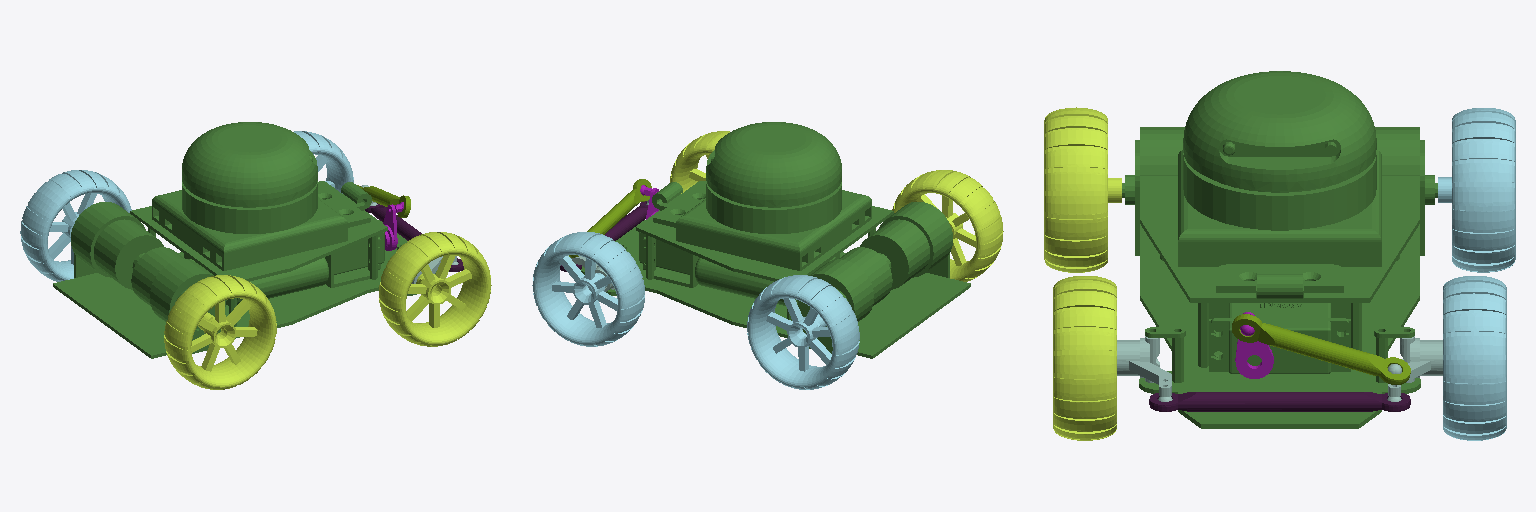
URDF robot description (test.SLDASM):
<?xml version="1.0" encoding="utf-8"?>
<!-- This URDF was automatically created by SolidWorks to URDF Exporter! Originally created by [author] ([email redacted]) 
     Commit Version: 1.5.1-0-g916b5db  Build Version: 1.5.7152.31018
     For more information, please see http://wiki.ros.org/sw_urdf_exporter -->
<robot
  name="test.SLDASM">
  <link
    name="base_link">
    <inertial>
      <origin
        xyz="-0.00159689886422772 -9.15245044360119E-06 0.0359198445178648"
        rpy="0 0 0" />
      <mass
        value="0.604172734262597" />
      <inertia
        ixx="0.000250495200702005"
        ixy="9.06360029792617E-08"
        ixz="9.87057318330371E-07"
        iyy="0.000349222290359103"
        iyz="-6.76297915922926E-10"
        izz="0.000528284512931136" />
    </inertial>
    <visual>
      <origin
        xyz="0 0 0"
        rpy="0 0 0" />
      <geometry>
        <mesh
          filename="package://test.SLDASM/meshes/base_link.STL" />
      </geometry>
      <material
        name="">
        <color
          rgba="0.337254901960784 0.549019607843137 0.282352941176471 1" />
      </material>
    </visual>
    <collision>
      <origin
        xyz="0 0 0"
        rpy="0 0 0" />
      <geometry>
        <mesh
          filename="package://test.SLDASM/meshes/base_link.STL" />
      </geometry>
    </collision>
  </link>
  <link
    name="lb_wheel">
    <inertial>
      <origin
        xyz="1.36724481666559E-05 -0.0052157204458189 -1.71707273817247E-05"
        rpy="0 0 0" />
      <mass
        value="0.0370961811704838" />
      <inertia
        ixx="1.43447471719054E-05"
        ixy="-1.11570042486E-09"
        ixz="1.07558180718446E-09"
        iyy="2.60572333015591E-05"
        iyz="1.42912660006039E-09"
        izz="1.43538389693049E-05" />
    </inertial>
    <visual>
      <origin
        xyz="0 0 0"
        rpy="0 0 0" />
      <geometry>
        <mesh
          filename="package://test.SLDASM/meshes/lb_wheel.STL" />
      </geometry>
      <material
        name="">
        <color
          rgba="0.647058823529412 0.858823529411765 0.905882352941176 1" />
      </material>
    </visual>
    <collision>
      <origin
        xyz="0 0 0"
        rpy="0 0 0" />
      <geometry>
        <mesh
          filename="package://test.SLDASM/meshes/lb_wheel.STL" />
      </geometry>
    </collision>
  </link>
  <joint
    name="lb_wheel"
    type="continuous">
    <origin
      xyz="-0.0681918900275088 0.085 0.0195"
      rpy="0 0 0" />
    <parent
      link="base_link" />
    <child
      link="lb_wheel" />
    <axis
      xyz="0 1 0" />
    <limit
      lower="-120"
      upper="120"
      effort="50"
      velocity="50" />
    <safety_controller
      soft_upper="100"
      soft_lower="40"
      k_velocity="60" />
  </joint>
  <link
    name="rb_wheel">
    <inertial>
      <origin
        xyz="1.41961107019833E-05 0.00521574554895821 -1.71876179285227E-05"
        rpy="0 0 0" />
      <mass
        value="0.0370952962895476" />
      <inertia
        ixx="1.43536074160664E-05"
        ixy="1.16660028548748E-09"
        ixz="-6.58757327486581E-10"
        iyy="2.60568095395233E-05"
        iyz="-1.40471818464943E-09"
        izz="1.43443707275583E-05" />
    </inertial>
    <visual>
      <origin
        xyz="0 0 0"
        rpy="0 0 0" />
      <geometry>
        <mesh
          filename="package://test.SLDASM/meshes/rb_wheel.STL" />
      </geometry>
      <material
        name="">
        <color
          rgba="0.8 0.917647058823529 0.337254901960784 1" />
      </material>
    </visual>
    <collision>
      <origin
        xyz="0 0 0"
        rpy="0 0 0" />
      <geometry>
        <mesh
          filename="package://test.SLDASM/meshes/rb_wheel.STL" />
      </geometry>
    </collision>
  </link>
  <joint
    name="rb_wheel"
    type="continuous">
    <origin
      xyz="-0.0681918900275088 -0.085 0.0195"
      rpy="0 0 0" />
    <parent
      link="base_link" />
    <child
      link="rb_wheel" />
    <axis
      xyz="0 -1 0" />
    <limit
      lower="-120"
      upper="120"
      effort="50"
      velocity="50" />
    <safety_controller
      soft_upper="100"
      soft_lower="40"
      k_velocity="60" />
  </joint>
  <link
    name="servo">
    <inertial>
      <origin
        xyz="-0.000670564663515699 -0.000838904673663076 0.00577004498133581"
        rpy="0 0 0" />
      <mass
        value="0.00102812398052869" />
      <inertia
        ixx="5.06965999363832E-08"
        ixy="3.59582150864825E-10"
        ixz="-2.47323116704478E-09"
        iyy="4.13995778738809E-08"
        iyz="3.89727361496621E-09"
        izz="1.51604797111521E-08" />
    </inertial>
    <visual>
      <origin
        xyz="0 0 0"
        rpy="0 0 0" />
      <geometry>
        <mesh
          filename="package://test.SLDASM/meshes/servo.STL" />
      </geometry>
      <material
        name="">
        <color
          rgba="0.67843137254902 0.176470588235294 0.725490196078431 1" />
      </material>
    </visual>
    <collision>
      <origin
        xyz="0 0 0"
        rpy="0 0 0" />
      <geometry>
        <mesh
          filename="package://test.SLDASM/meshes/servo.STL" />
      </geometry>
    </collision>
  </link>
  <joint
    name="servo"
    type="revolute">
    <origin
      xyz="0.0818081099724683 -0.00999999999994558 0.0149999999999222"
      rpy="0 0 0" />
    <parent
      link="base_link" />
    <child
      link="servo" />
    <axis
      xyz="1 0 0" />
    <limit
      lower="-90"
      upper="90"
      effort="0"
      velocity="0" />
  </joint>
  <link
    name="turn_l">
    <inertial>
      <origin
        xyz="0.00638642436230782 0.00371324673923158 4.6785291846695E-05"
        rpy="0 0 0" />
      <mass
        value="0.00262306791605391" />
      <inertia
        ixx="1.02648987046787E-07"
        ixy="6.52855074516281E-08"
        ixz="7.03843776497678E-14"
        iyy="2.32734584765491E-07"
        iyz="-7.50458574185946E-14"
        izz="2.55841528338023E-07" />
    </inertial>
    <visual>
      <origin
        xyz="0 0 0"
        rpy="0 0 0" />
      <geometry>
        <mesh
          filename="package://test.SLDASM/meshes/turn_l.STL" />
      </geometry>
      <material
        name="">
        <color
          rgba="0.63921568627451 0.772549019607843 0.741176470588235 1" />
      </material>
    </visual>
    <collision>
      <origin
        xyz="0 0 0"
        rpy="0 0 0" />
      <geometry>
        <mesh
          filename="package://test.SLDASM/meshes/turn_l.STL" />
      </geometry>
    </collision>
  </link>
  <joint
    name="turn_l"
    type="revolute">
    <origin
      xyz="0.0718081279661377 0.0490967647728443 0.012000024229292"
      rpy="0 0 0" />
    <parent
      link="base_link" />
    <child
      link="turn_l" />
    <axis
      xyz="0 0 -1" />
    <limit
      lower="-45"
      upper="45"
      effort="0"
      velocity="0" />
  </joint>
  <link
    name="lf_wheel">
    <inertial>
      <origin
        xyz="-2.20627704051179E-05 -0.00521575578452982 -1.75769779402202E-06"
        rpy="0 0 0" />
      <mass
        value="0.0370948291464789" />
      <inertia
        ixx="1.43494957491049E-05"
        ixy="1.81562503293817E-09"
        ixz="-4.50988533460288E-09"
        iyy="2.60565852527096E-05"
        iyz="1.34532667658033E-10"
        izz="1.4348159194633E-05" />
    </inertial>
    <visual>
      <origin
        xyz="0 0 0"
        rpy="0 0 0" />
      <geometry>
        <mesh
          filename="package://test.SLDASM/meshes/lf_wheel.STL" />
      </geometry>
      <material
        name="">
        <color
          rgba="0.647058823529412 0.858823529411765 0.905882352941176 1" />
      </material>
    </visual>
    <collision>
      <origin
        xyz="0 0 0"
        rpy="0 0 0" />
      <geometry>
        <mesh
          filename="package://test.SLDASM/meshes/lf_wheel.STL" />
      </geometry>
    </collision>
  </link>
  <joint
    name="lf_wheel"
    type="continuous">
    <origin
      xyz="0 0.0324032352274523 0"
      rpy="0 0 0" />
    <parent
      link="turn_l" />
    <child
      link="lf_wheel" />
    <axis
      xyz="0 1 0" />
    <limit
      lower="-120"
      upper="120"
      effort="0"
      velocity="50" />
  </joint>
  <link
    name="link_l">
    <inertial>
      <origin
        xyz="1.24850785265807E-09 -0.0450000001776448 8.57940550682739E-05"
        rpy="0 0 0" />
      <mass
        value="0.00436502834432125" />
      <inertia
        ixx="2.97300554211234E-06"
        ixy="-3.26029444882744E-22"
        ixz="8.63253468807438E-14"
        iyy="3.76664735690838E-08"
        iyz="-1.44260832797335E-22"
        izz="2.9805584866647E-06" />
    </inertial>
    <visual>
      <origin
        xyz="0 0 0"
        rpy="0 0 0" />
      <geometry>
        <mesh
          filename="package://test.SLDASM/meshes/link_l.STL" />
      </geometry>
      <material
        name="">
        <color
          rgba="0.301960784313725 0.145098039215686 0.298039215686275 1" />
      </material>
    </visual>
    <collision>
      <origin
        xyz="0 0 0"
        rpy="0 0 0" />
      <geometry>
        <mesh
          filename="package://test.SLDASM/meshes/link_l.STL" />
      </geometry>
    </collision>
  </link>
  <joint
    name="link_l"
    type="revolute">
    <origin
      xyz="0.0299999803666197 -0.00409676459519989 -0.00508581828436026"
      rpy="0 0 0" />
    <parent
      link="turn_l" />
    <child
      link="link_l" />
    <axis
      xyz="0 0 1" />
    <limit
      lower="0"
      upper="0"
      effort="0"
      velocity="0" />
  </joint>
  <link
    name="link_ll">
    <inertial>
      <origin
        xyz="-0.00400000848967141 -0.0287948824732912 0.00732060637305861"
        rpy="0 0 0" />
      <mass
        value="0.0028569998845175" />
      <inertia
        ixx="9.07189471290435E-07"
        ixy="-1.1486537524523E-07"
        ixz="2.95450825678496E-08"
        iyy="9.62599260163487E-08"
        iyz="2.12683780912267E-07"
        izz="8.68442733177761E-07" />
    </inertial>
    <visual>
      <origin
        xyz="0 0 0"
        rpy="0 0 0" />
      <geometry>
        <mesh
          filename="package://test.SLDASM/meshes/link_ll.STL" />
      </geometry>
      <material
        name="">
        <color
          rgba="0.47843137254902 0.627450980392157 0.141176470588235 1" />
      </material>
    </visual>
    <collision>
      <origin
        xyz="0 0 0"
        rpy="0 0 0" />
      <geometry>
        <mesh
          filename="package://test.SLDASM/meshes/link_ll.STL" />
      </geometry>
    </collision>
  </link>
  <joint
    name="link_ll"
    type="revolute">
    <origin
      xyz="0.0249999804755777 -0.00409676538685611 0.00608576982577623"
      rpy="0 0 0" />
    <parent
      link="turn_l" />
    <child
      link="link_ll" />
    <axis
      xyz="0 0 -1" />
    <limit
      lower="0"
      upper="0"
      effort="0"
      velocity="0" />
  </joint>
  <link
    name="turn_r">
    <inertial>
      <origin
        xyz="0.00547231101220499 -0.0040967970651109 -0.000228247733990893"
        rpy="0 0 0" />
      <mass
        value="0.00250027899801978" />
      <inertia
        ixx="1.02054358011643E-07"
        ixy="-6.52855088977075E-08"
        ixz="-7.0472295666959E-14"
        iyy="2.32139951918833E-07"
        iyz="-7.50928904158803E-14"
        izz="2.55429486721656E-07" />
    </inertial>
    <visual>
      <origin
        xyz="0 0 0"
        rpy="0 0 0" />
      <geometry>
        <mesh
          filename="package://test.SLDASM/meshes/turn_r.STL" />
      </geometry>
      <material
        name="">
        <color
          rgba="0.63921568627451 0.772549019607843 0.741176470588235 1" />
      </material>
    </visual>
    <collision>
      <origin
        xyz="0 0 0"
        rpy="0 0 0" />
      <geometry>
        <mesh
          filename="package://test.SLDASM/meshes/turn_r.STL" />
      </geometry>
    </collision>
  </link>
  <joint
    name="turn_r"
    type="revolute">
    <origin
      xyz="0.0718081279661256 -0.0490967647728332 0.01199997577068"
      rpy="0 0 0" />
    <parent
      link="base_link" />
    <child
      link="turn_r" />
    <axis
      xyz="0 0 1" />
    <limit
      lower="-45"
      upper="45"
      effort="0"
      velocity="0" />
  </joint>
  <link
    name="rf_wheel">
    <inertial>
      <origin
        xyz="-1.42527531971359E-05 0.0052157722463092 -1.71455834558805E-05"
        rpy="0 0 0" />
      <mass
        value="0.0370944153086637" />
      <inertia
        ixx="1.43441029795014E-05"
        ixy="-1.16824957803054E-09"
        ixz="-8.43229435703538E-10"
        iyy="2.60563888599235E-05"
        iyz="-1.40501078074366E-09"
        izz="1.43532703451315E-05" />
    </inertial>
    <visual>
      <origin
        xyz="0 0 0"
        rpy="0 0 0" />
      <geometry>
        <mesh
          filename="package://test.SLDASM/meshes/rf_wheel.STL" />
      </geometry>
      <material
        name="">
        <color
          rgba="0.8 0.917647058823529 0.337254901960784 1" />
      </material>
    </visual>
    <collision>
      <origin
        xyz="0 0 0"
        rpy="0 0 0" />
      <geometry>
        <mesh
          filename="package://test.SLDASM/meshes/rf_wheel.STL" />
      </geometry>
    </collision>
  </link>
  <joint
    name="rf_wheel"
    type="continuous">
    <origin
      xyz="0 -0.0324032352268724 0"
      rpy="0 0 0" />
    <parent
      link="turn_r" />
    <child
      link="rf_wheel" />
    <axis
      xyz="0 -1 0" />
    <limit
      lower="-120"
      upper="120"
      effort="0"
      velocity="50" />
  </joint>
  <link
    name="link_rr">
    <inertial>
      <origin
        xyz="0.0125709734768234 0.0125897847595804 -0.0258127205922914"
        rpy="0 0 0" />
      <mass
        value="0.00436502834432125" />
      <inertia
        ixx="2.97300554211234E-06"
        ixy="-3.26029445943614E-22"
        ixz="8.63253468807439E-14"
        iyy="3.76664735690838E-08"
        iyz="-1.45876419931227E-22"
        izz="2.9805584866647E-06" />
    </inertial>
    <visual>
      <origin
        xyz="0 0 0"
        rpy="0 0 0" />
      <geometry>
        <mesh
          filename="package://test.SLDASM/meshes/link_rr.STL" />
      </geometry>
      <material
        name="">
        <color
          rgba="0.301960784313725 0.145098039215686 0.298039215686275 1" />
      </material>
    </visual>
    <collision>
      <origin
        xyz="0 0 0"
        rpy="0 0 0" />
      <geometry>
        <mesh
          filename="package://test.SLDASM/meshes/link_rr.STL" />
      </geometry>
    </collision>
  </link>
  <joint
    name="link_rr"
    type="revolute">
    <origin
      xyz="0.0174290081383163 0.0365069800132524 0.0208127448216114"
      rpy="0 0 0" />
    <parent
      link="turn_r" />
    <child
      link="link_rr" />
    <axis
      xyz="-1 0 0" />
    <limit
      lower="0"
      upper="0"
      effort="0"
      velocity="0" />
  </joint>
  <link
    name="camera">
    <inertial>
      <origin
        xyz="-0.0135786496601567 1.28905432960939E-07 0.00611034086129218"
        rpy="0 0 0" />
      <mass
        value="0.186904128800083" />
      <inertia
        ixx="0.000133784122207917"
        ixy="9.95919502465171E-11"
        ixz="2.02433719255545E-07"
        iyy="1.0664060130472E-05"
        iyz="3.36230004794043E-10"
        izz="0.000138831068112444" />
    </inertial>
    <visual>
      <origin
        xyz="0 0 0"
        rpy="0 0 0" />
      <geometry>
        <mesh
          filename="package://test.SLDASM/meshes/camera.STL" />
      </geometry>
      <material
        name="">
        <color
          rgba="0.792156862745098 0.819607843137255 0.933333333333333 1" />
      </material>
    </visual>
    <collision>
      <origin
        xyz="0 0 0"
        rpy="0 0 0" />
      <geometry>
        <mesh
          filename="package://test.SLDASM/meshes/camera.STL" />
      </geometry>
    </collision>
  </link>
  <joint
    name="camera"
    type="revolute">
    <origin
      xyz="0.0663691429264373 0 0.041061032953946"
      rpy="0 0 0" />
    <parent
      link="base_link" />
    <child
      link="camera" />
    <axis
      xyz="0 -1 0" />
    <limit
      lower="-60"
      upper="60"
      effort="0"
      velocity="0" />
  </joint>
</robot>

--- Facts derived from the render (not from the file) ---
The picture shows the robot from 3 angles, left to right: view 1: azimuth 30°, elevation 25°; view 2: azimuth 150°, elevation 25°; view 3: azimuth 270°, elevation 25°; orthographic projection.
Model test.SLDASM with 12 links and 11 joints (7 revolute, 4 continuous), rooted at base_link, posed every joint at zero.
Links seen in each view (by area): view 1: base_link, rb_wheel, rf_wheel, lb_wheel, lf_wheel, link_ll, servo; view 2: base_link, lb_wheel, lf_wheel, rb_wheel, rf_wheel, link_ll, link_l; view 3: base_link, lb_wheel, rb_wheel, rf_wheel, lf_wheel, link_l, link_ll, turn_r, turn_l, servo.
Boxes of the visible links, x1,y1,x2,y2 form: base_link: (53,122,436,358); rb_wheel: (164,275,276,389); rf_wheel: (379,232,491,346); lb_wheel: (20,170,131,281); lf_wheel: (294,131,353,193); link_ll: (357,185,410,217); servo: (383,202,403,250); base_link: (581,122,970,358); lb_wheel: (747,275,859,389); lf_wheel: (532,232,644,346); rb_wheel: (892,170,1003,281); rf_wheel: (670,131,729,193); link_ll: (569,179,651,257); link_l: (560,202,647,271); base_link: (1122,71,1437,428); lb_wheel: (1438,108,1515,272); rb_wheel: (1044,107,1121,272); rf_wheel: (1053,276,1116,440); lf_wheel: (1443,276,1506,440); link_l: (1150,392,1410,411); link_ll: (1232,314,1410,384); turn_r: (1117,336,1172,401); turn_l: (1387,336,1442,401); servo: (1235,312,1273,378).
Size in the robot's own frame: 0.2125 by 0.185 by 0.1115 metres.
Meshes: 12 distinct files referenced, 11 mesh visuals loaded (11 binary STL); not drawn: 1 (reference not matched to a file when rendering).